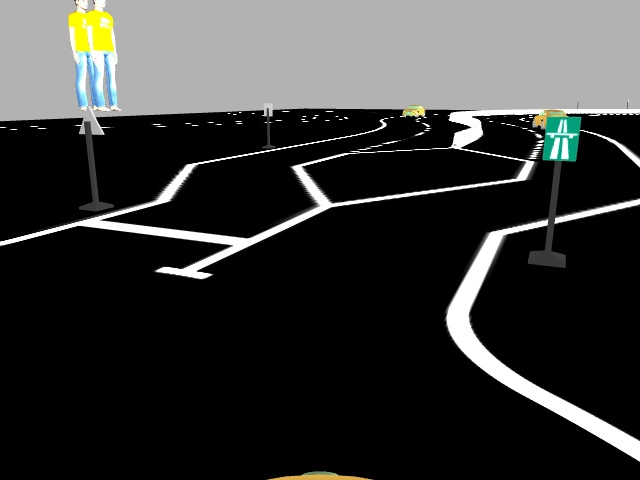HighwayEntrance: (543, 114, 580, 162)
